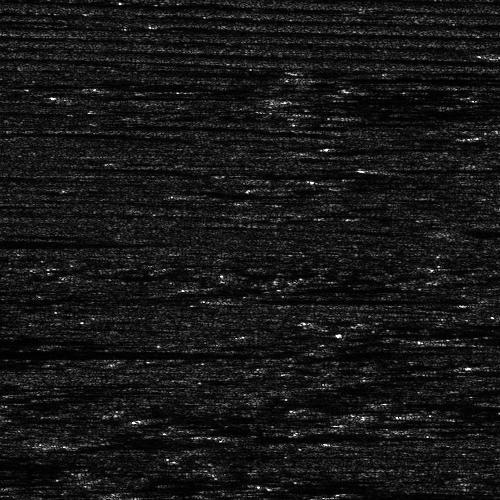object: (369, 334, 474, 345), (196, 296, 269, 301), (201, 433, 264, 438), (423, 227, 476, 232), (304, 73, 345, 78), (473, 50, 500, 57)
shadow: (0, 340, 217, 361), (233, 433, 428, 438), (233, 296, 425, 301), (324, 73, 500, 78), (422, 334, 500, 345), (0, 235, 65, 246), (449, 227, 500, 232)
